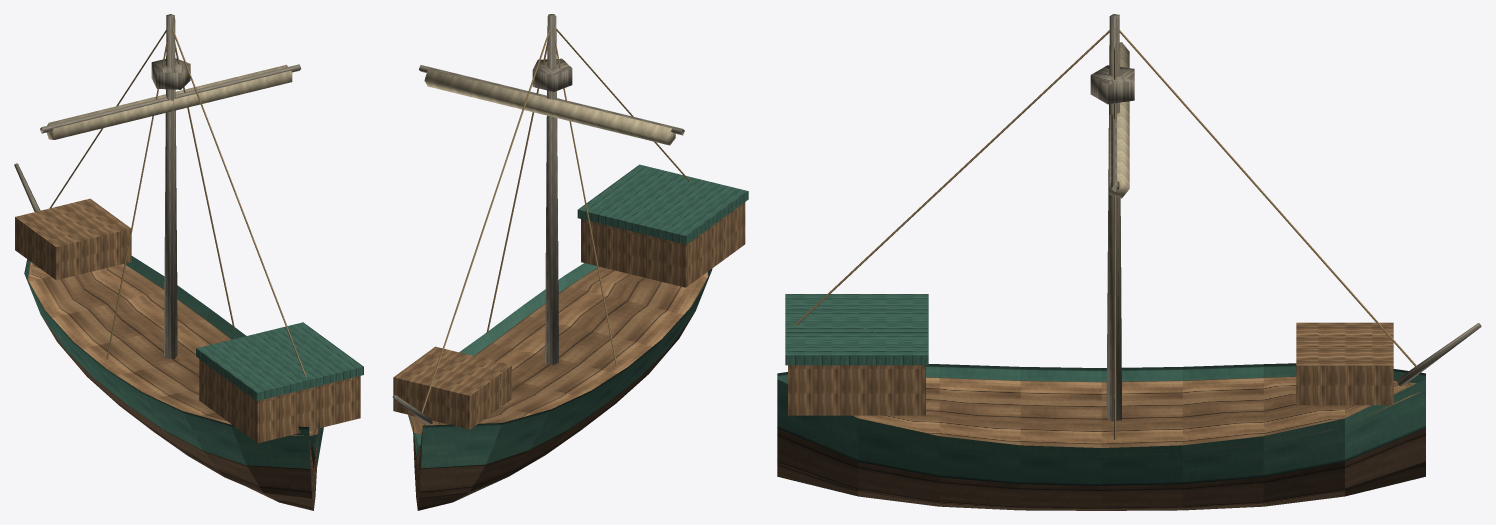
Rendered from Ship_Cog_1_LOD1.gltf.
The picture shows the model from 3 angles, left to right: view 1: azimuth 30°, elevation 25°; view 2: azimuth 150°, elevation 25°; view 3: azimuth 270°, elevation 25°; orthographic projection. The views are drawn at different scales.
Parts seen in each view (by area): view 1: Ship_Cog_1_LOD1; view 2: Ship_Cog_1_LOD1; view 3: Ship_Cog_1_LOD1.
Part boxes in pixels (<box>): Ship_Cog_1_LOD1: <box>14,14,363,510</box>; Ship_Cog_1_LOD1: <box>392,14,748,510</box>; Ship_Cog_1_LOD1: <box>777,14,1481,510</box>.
Size of the model in its own units: 13 by 20.2 by 26.06.
6 materials, 6 textured.
